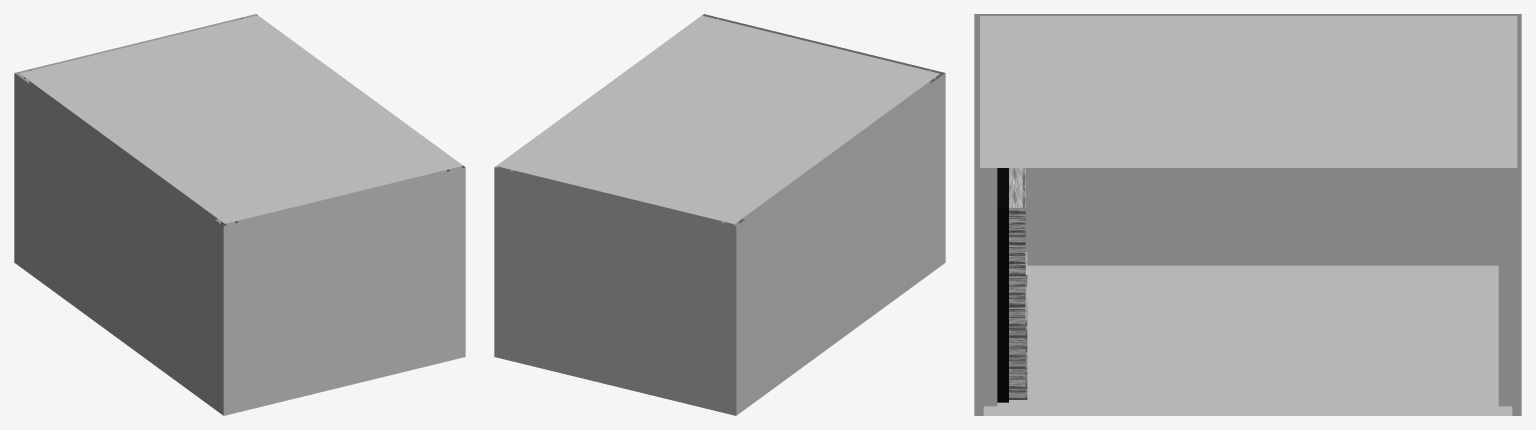
Rendered from Trophy_room_1.fbx.
3 renders of one model, left to right at view 1: azimuth 30°, elevation 25°; view 2: azimuth 150°, elevation 25°; view 3: azimuth 270°, elevation 25°, orthographic. The views are drawn at different scales.
Visible parts, largest first — view 1: wall1, ceiling1; view 2: wall1, ceiling1; view 3: ceiling1, Floor1, wall1, BookcaseA.
Part boxes in pixels (box(x1,y1,x2,y2)): wall1: box(14, 14, 465, 415); ceiling1: box(19, 15, 462, 223); wall1: box(494, 14, 945, 415); ceiling1: box(496, 15, 939, 223); ceiling1: box(980, 16, 1517, 167); Floor1: box(983, 265, 1512, 415); wall1: box(974, 14, 1521, 415); BookcaseA: box(997, 168, 1027, 402).
Size of the model in its own units: 400 by 300 by 600.
